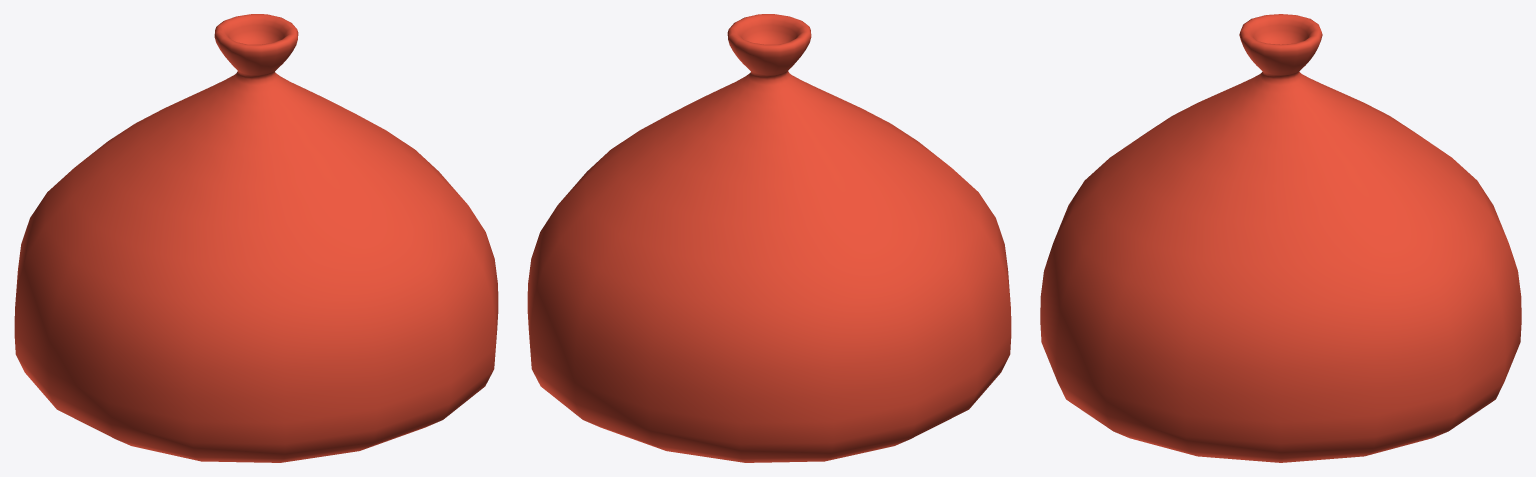
Rendered from sm_moneybag_v3.fbx.
3 renders of one model, left to right at view 1: azimuth 30°, elevation 25°; view 2: azimuth 150°, elevation 25°; view 3: azimuth 270°, elevation 25°, orthographic.
Visible parts, largest first — view 1: SM_Money.002; view 2: SM_Money.002; view 3: SM_Money.002.
Boxes of the visible parts, x1,y1,x2,y2 form: SM_Money.002: [14, 14, 498, 462]; SM_Money.002: [527, 14, 1011, 462]; SM_Money.002: [1040, 14, 1521, 462].
Bounding box in the file's own units: 53.57 × 44.79 × 53.57.
